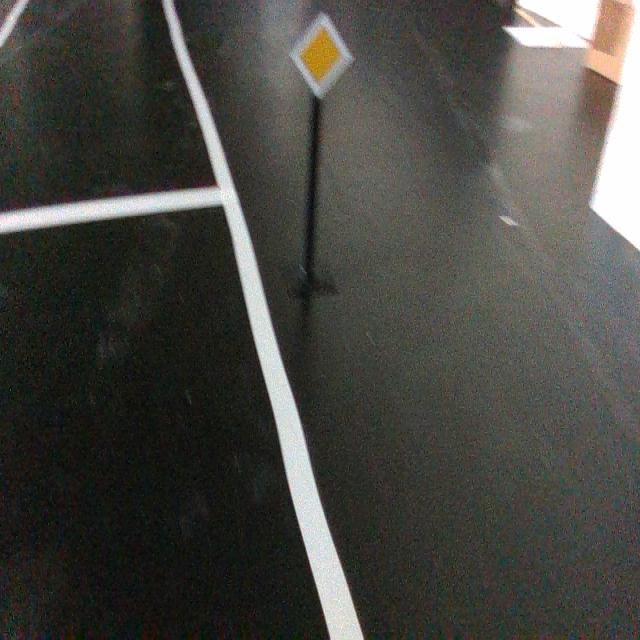priority-sign: (287, 10, 356, 100)
